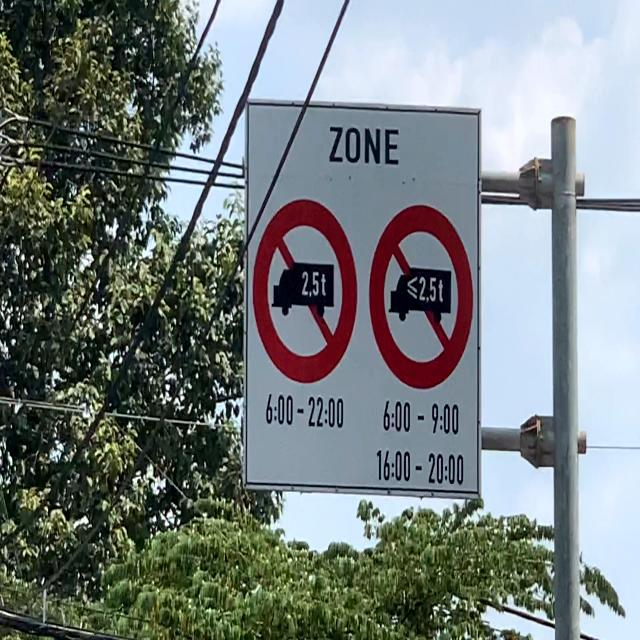Cam xe tai tren 2_5: (250, 193, 363, 384), (368, 200, 474, 388)
